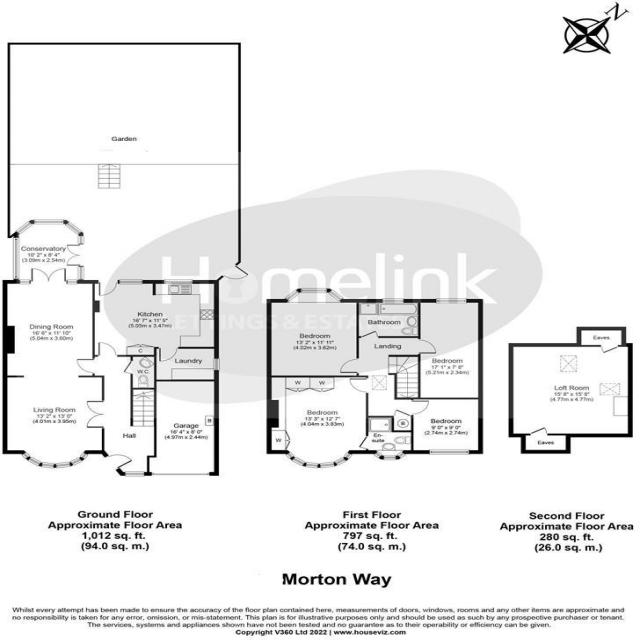DOOR: (104, 454, 134, 471), (97, 280, 119, 296), (349, 377, 369, 394), (75, 357, 95, 374), (410, 399, 430, 415), (158, 347, 179, 362), (339, 358, 359, 373), (417, 339, 436, 354), (360, 330, 379, 338)
DOUBLE DOOR: (28, 265, 71, 285), (84, 399, 105, 429)
ROOM: (2, 268, 105, 469), (92, 279, 219, 362), (266, 375, 369, 469), (266, 287, 359, 378), (418, 299, 483, 400), (410, 397, 483, 454)
WINDOW: (285, 450, 353, 469), (284, 287, 345, 302), (372, 450, 407, 460), (428, 449, 470, 455), (435, 298, 467, 304), (163, 279, 194, 284), (20, 271, 31, 285), (119, 279, 144, 285), (382, 298, 405, 304), (124, 471, 145, 477), (213, 358, 220, 371), (66, 279, 78, 285)
